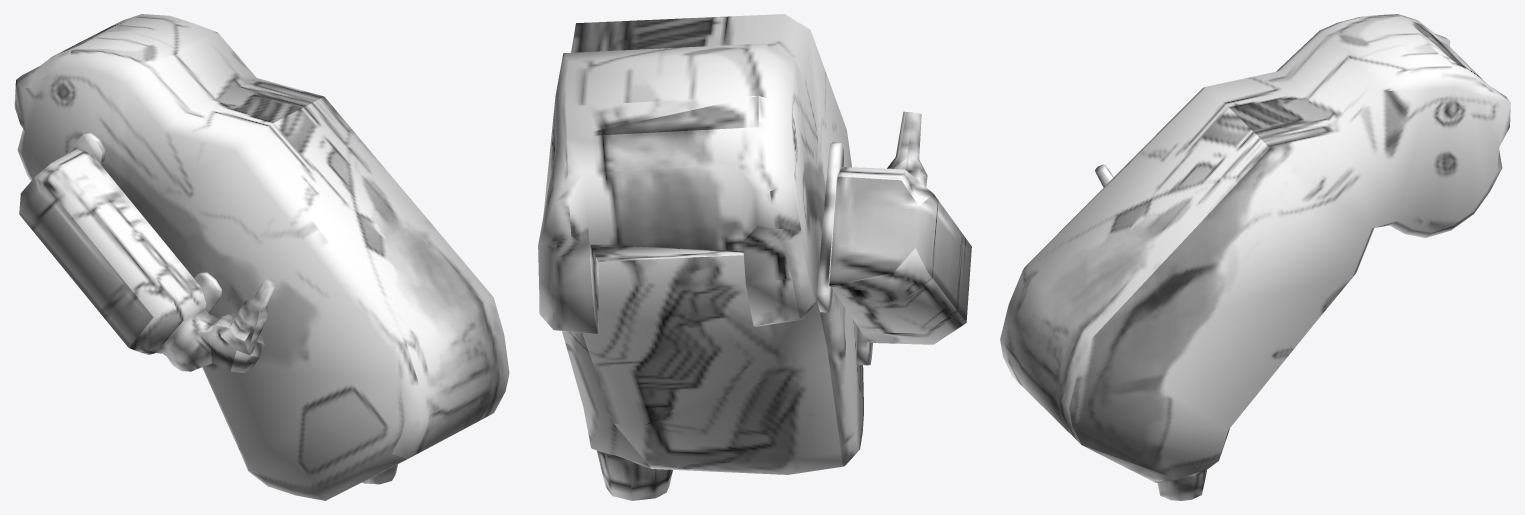
Rendered from br_thigh.glb.
The picture shows the model from 3 angles, left to right: view 1: azimuth 30°, elevation 25°; view 2: azimuth 150°, elevation 25°; view 3: azimuth 270°, elevation 25°; orthographic projection. The views are drawn at different scales.
Parts seen in each view (by area): view 1: br_thigh; view 2: br_thigh; view 3: br_thigh.
Part boxes in pixels (left/top/right/bottom): br_thigh: left=14, top=14, right=509, bottom=500; br_thigh: left=538, top=14, right=971, bottom=500; br_thigh: left=1000, top=14, right=1510, bottom=500.
Size of the model in its own units: 1.1 by 1.18 by 1.39.
3 materials, 3 textured.
